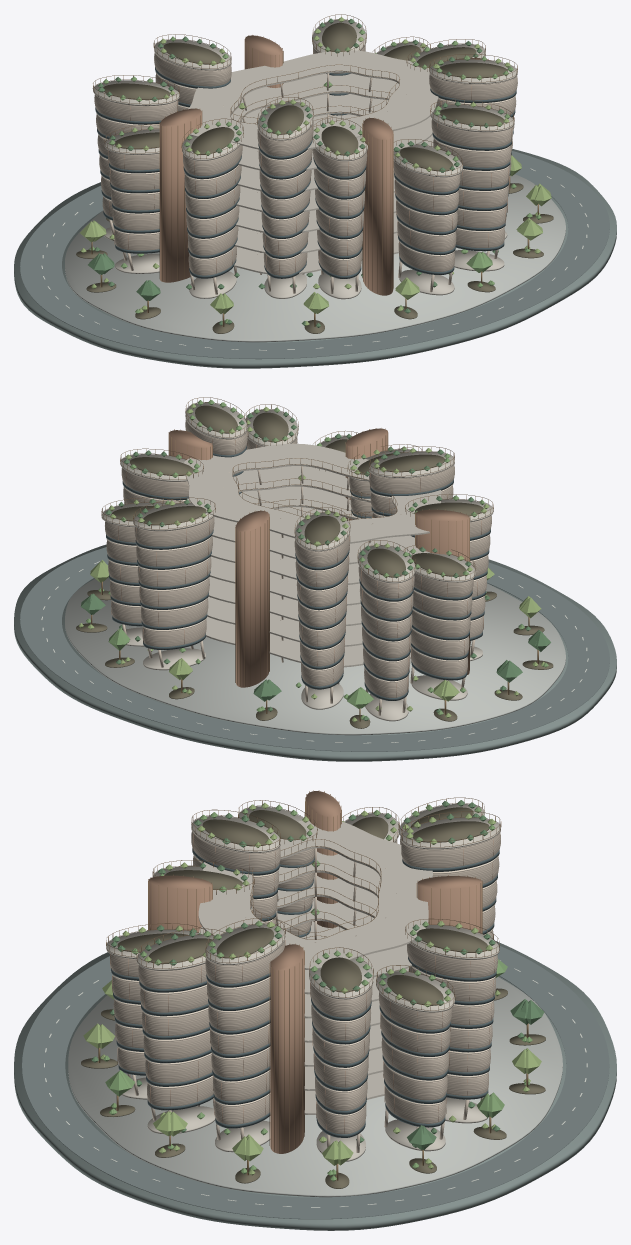
Rendered from uob-innovation-hub.glb.
The picture shows the model from 3 angles, top to bottom: view 1: azimuth 30°, elevation 25°; view 2: azimuth 150°, elevation 25°; view 3: azimuth 270°, elevation 25°; orthographic projection. The views are drawn at different scales.
Parts seen in each view (by area): view 1: Paved forecourt, Campus access road, Atrium galleries / Warm limestone decks, Circulation cores / Terracotta circulation cores, Oval site plinth, Circulation cores / Bronze frames and balustrades, Landscape / Tropical planting 02, Landscape / Garden beds, Tower 08 / Warm limestone decks, Tower 10 / Warm limestone decks, T06 L07 ribbed shell, Tower 07 / Warm limestone decks (+69 smaller); view 2: Paved forecourt, Atrium galleries / Warm limestone decks, Campus access road, Circulation cores / Terracotta circulation cores, Oval site plinth, Circulation cores / Bronze frames and balustrades, Landscape / Garden beds, Landscape / Tropical planting 02, Tower 03 / Recessed smoked glazing, Tower 03 / Warm limestone decks, Landscape / Tropical planting 00, Tower 01 / Warm limestone decks (+53 smaller); view 3: Campus access road, Paved forecourt, Atrium galleries / Warm limestone decks, Circulation cores / Terracotta circulation cores, Oval site plinth, Circulation cores / Bronze frames and balustrades, Landscape / Tropical planting 02, Landscape / Garden beds, Tower 06 / Warm limestone decks, Tower 04 / Warm limestone decks, T02 L07 ribbed shell, Tower 06 / Recessed smoked glazing (+62 smaller).
Boxes of the visible parts, <box> form: Paved forecourt: <box>65,174,565,342</box>; Campus access road: <box>20,151,609,359</box>; Atrium galleries / Warm limestone decks: <box>188,50,438,274</box>; Circulation cores / Terracotta circulation cores: <box>160,35,489,295</box>; Oval site plinth: <box>14,149,616,368</box>; Circulation cores / Bronze frames and balustrades: <box>159,35,488,294</box>; Landscape / Tropical planting 02: <box>80,155,551,325</box>; Landscape / Garden beds: <box>76,183,553,333</box>; Tower 08 / Warm limestone decks: <box>393,144,462,295</box>; Tower 10 / Warm limestone decks: <box>258,102,313,298</box>; T06 L07 ribbed shell: <box>429,74,517,100</box>; Tower 07 / Warm limestone decks: <box>430,105,514,271</box>; Paved forecourt: <box>65,577,565,735</box>; Atrium galleries / Warm limestone decks: <box>184,443,441,667</box>; Campus access road: <box>20,547,609,751</box>; Circulation cores / Terracotta circulation cores: <box>169,428,469,687</box>; Oval site plinth: <box>14,544,616,761</box>; Circulation cores / Bronze frames and balustrades: <box>168,428,469,686</box>; Landscape / Garden beds: <box>76,590,553,728</box>; Landscape / Tropical planting 02: <box>79,560,544,722</box>; Tower 03 / Recessed smoked glazing: <box>135,530,213,649</box>; Tower 03 / Warm limestone decks: <box>133,503,213,670</box>; Landscape / Tropical planting 00: <box>80,592,550,720</box>; Tower 01 / Warm limestone decks: <box>357,545,415,721</box>; Campus access road: <box>22,946,609,1219</box>; Paved forecourt: <box>68,977,562,1197</box>; Atrium galleries / Warm limestone decks: <box>198,820,432,1114</box>; Circulation cores / Terracotta circulation cores: <box>149,791,481,1153</box>; Oval site plinth: <box>14,940,616,1230</box>; Circulation cores / Bronze frames and balustrades: <box>148,790,482,1152</box>; Landscape / Tropical planting 02: <box>83,980,541,1175</box>; Landscape / Garden beds: <box>81,988,545,1188</box>; Tower 06 / Warm limestone decks: <box>205,924,285,1152</box>; Tower 04 / Warm limestone decks: <box>376,971,454,1151</box>; T02 L07 ribbed shell: <box>401,833,500,868</box>; Tower 06 / Recessed smoked glazing: <box>206,973,270,1128</box>.
Size of the model in its own units: 96.18 by 30.06 by 78.
